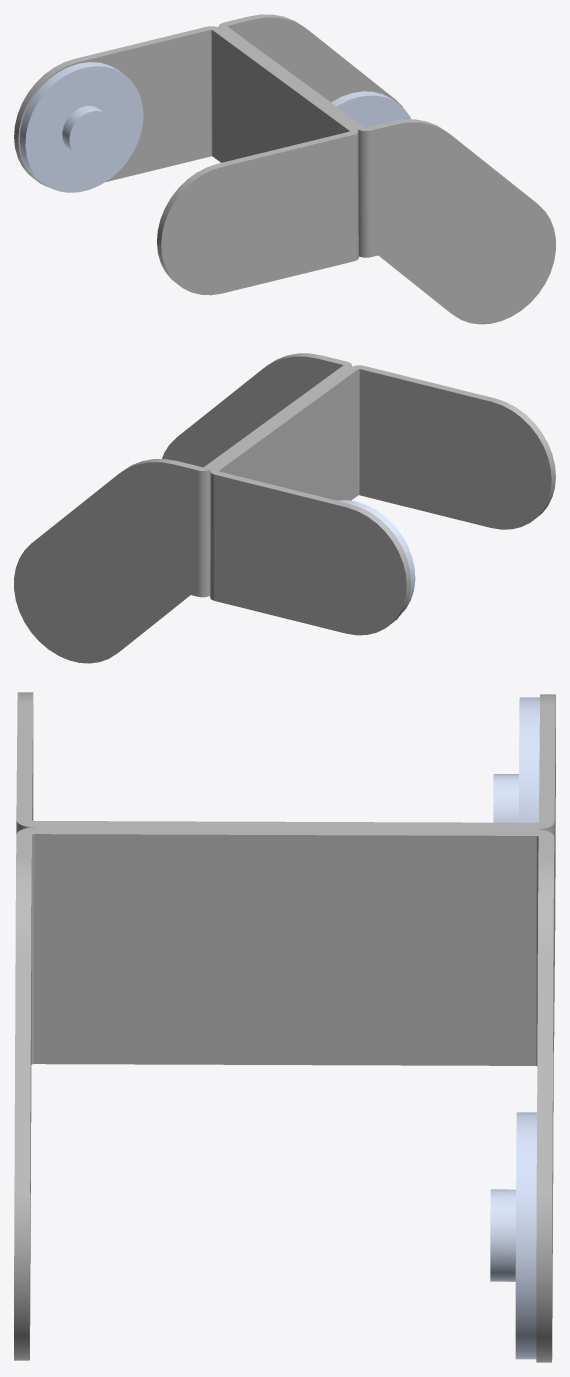
File: r_wrist_link.dae
3 renders of one model, top to bottom at view 1: azimuth 30°, elevation 25°; view 2: azimuth 150°, elevation 25°; view 3: azimuth 270°, elevation 25°, orthographic. The views are drawn at different scales.
Parts seen in each view (by area): view 1: Actor0; view 2: Actor0; view 3: Actor0.
Part boxes in pixels (bbox=[...]): Actor0: bbox=[14, 14, 555, 324]; Actor0: bbox=[14, 353, 555, 663]; Actor0: bbox=[14, 692, 555, 1362].
Size of the model in its own units: 0.0804 by 0.0433 by 0.0526.
